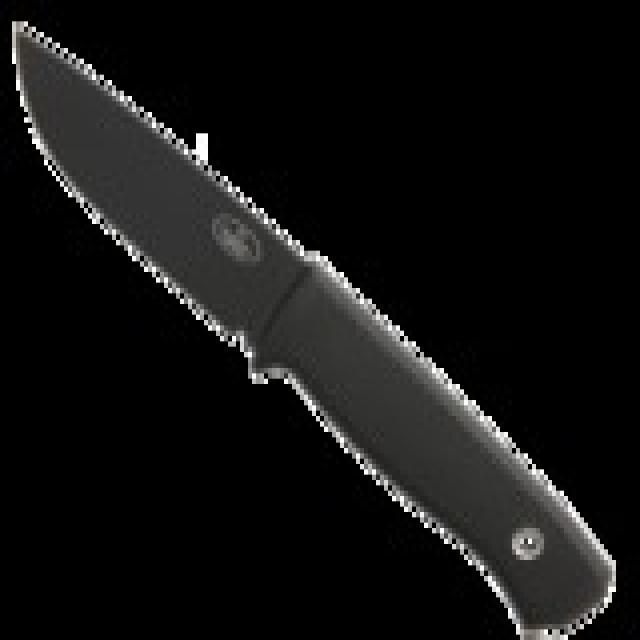Knife: (8, 7, 596, 613)
